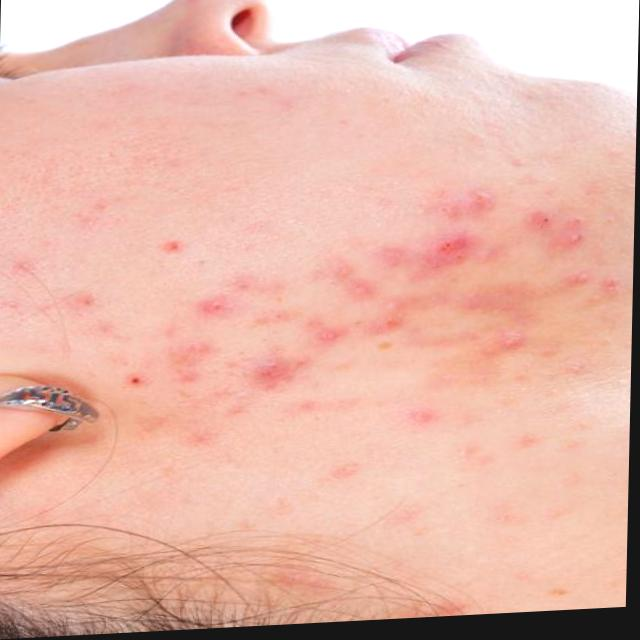8: (495, 334, 540, 362), (459, 190, 504, 216), (194, 300, 244, 322)
papules: (427, 235, 473, 285), (239, 357, 308, 390)
pustules: (559, 275, 604, 305)
